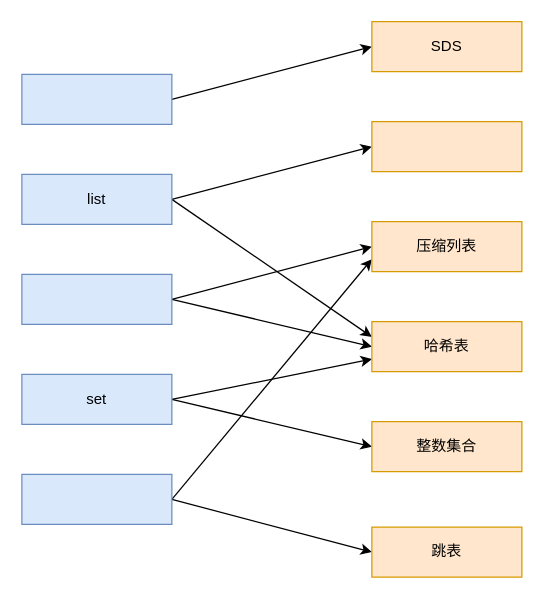
Some shapes in this 544 by 600 pixel diagram are drawn without their labels. The centre of each missing label's shape, as x and y in pixels:
hash: the point at 96,298
string: the point at 96,98
zset: the point at 96,498
双向链表: the point at 446,146
